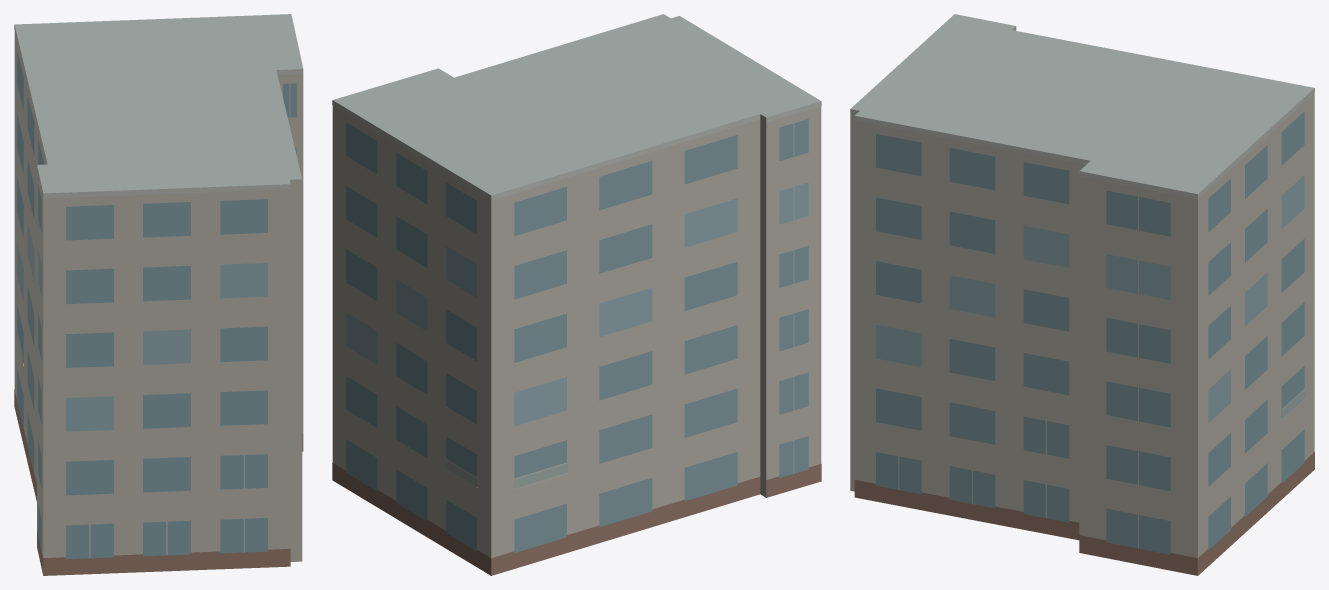
Rendered from survey-upis-32951338.glb.
The picture shows the model from 3 angles, left to right: view 1: azimuth 30°, elevation 25°; view 2: azimuth 150°, elevation 25°; view 3: azimuth 270°, elevation 25°; orthographic projection.
Visible parts, largest first — view 1: survey-upis-32951338.tmp; view 2: survey-upis-32951338.tmp; view 3: survey-upis-32951338.tmp.
Boxes of the visible parts, bbox=[...] form: survey-upis-32951338.tmp: bbox=[14, 14, 303, 575]; survey-upis-32951338.tmp: bbox=[332, 14, 821, 575]; survey-upis-32951338.tmp: bbox=[850, 14, 1314, 575].
Size of the model in its own units: 18.53 by 18.3 by 20.19.
